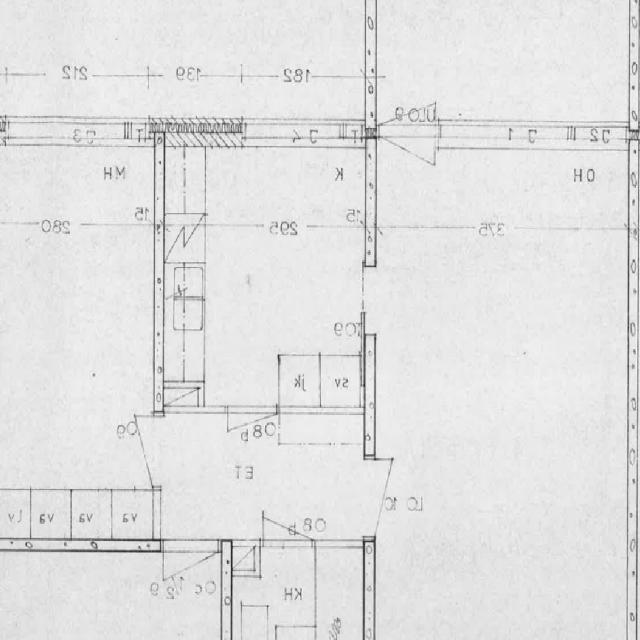door: (379, 118, 437, 220), (379, 46, 437, 148), (364, 458, 437, 536), (165, 538, 220, 622), (101, 416, 163, 483), (228, 406, 277, 476), (264, 477, 313, 546)
